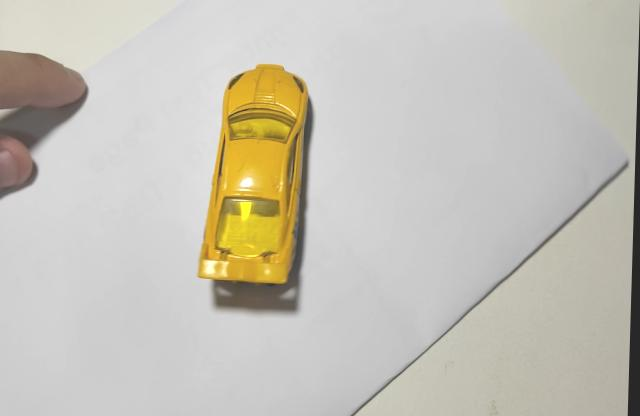07_RHLTURBO: (198, 64, 312, 288)
